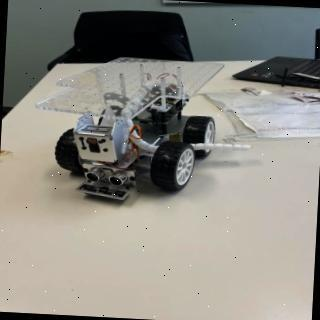vehicle: (53, 61, 227, 211)
